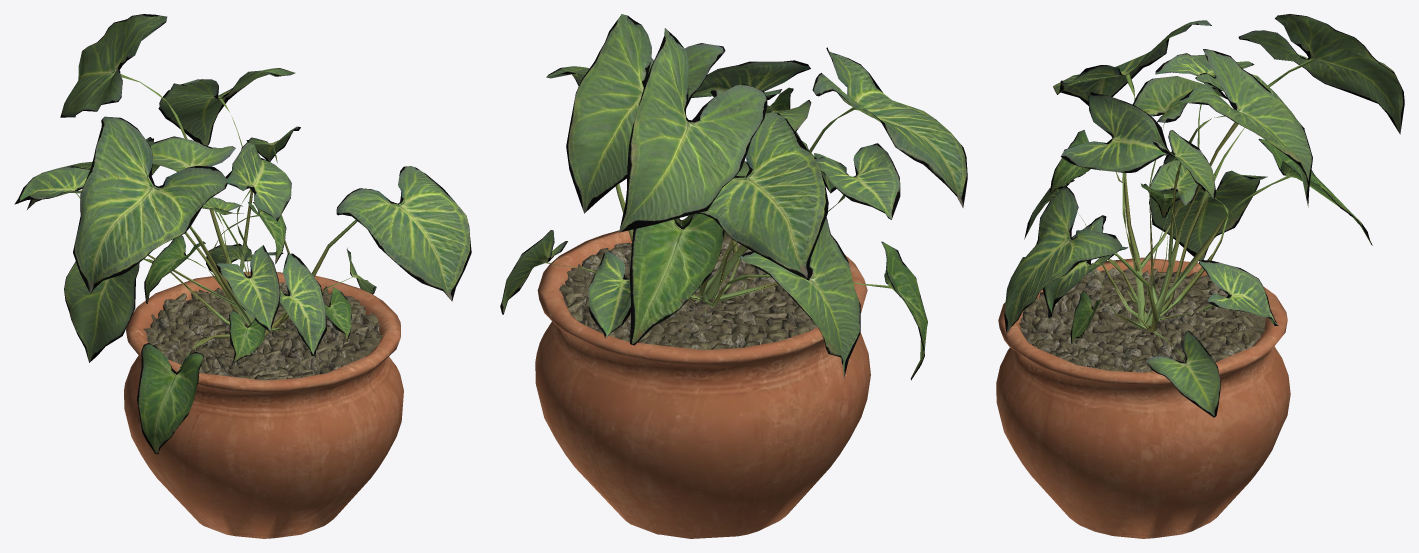
Rendered from potted_plant_02.glb.
3 renders of one model, left to right at view 1: azimuth 30°, elevation 25°; view 2: azimuth 150°, elevation 25°; view 3: azimuth 270°, elevation 25°, orthographic. The views are drawn at different scales.
Visible parts, largest first — view 1: potted_plant_02_leaves, potted_plant_02_pot; view 2: potted_plant_02_leaves, potted_plant_02_pot; view 3: potted_plant_02_pot, potted_plant_02_leaves.
Boxes of the visible parts, x1,y1,x2,y2 form: potted_plant_02_leaves: [14, 14, 471, 454]; potted_plant_02_pot: [124, 271, 403, 538]; potted_plant_02_leaves: [500, 14, 967, 380]; potted_plant_02_pot: [535, 220, 870, 538]; potted_plant_02_pot: [996, 257, 1290, 538]; potted_plant_02_leaves: [1004, 14, 1404, 417].
Bounding box in the file's own units: 0.7009 × 0.8401 × 0.6561.
Materials: 2 (2 with a texture image).
